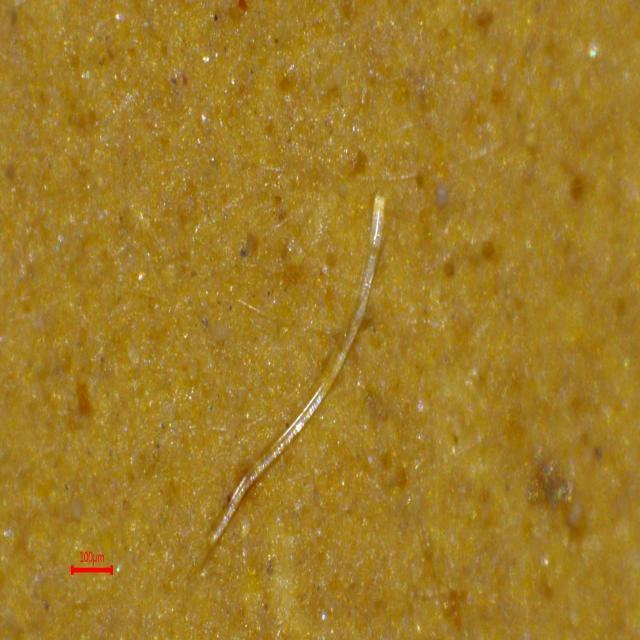fibers: (179, 193, 426, 567)
